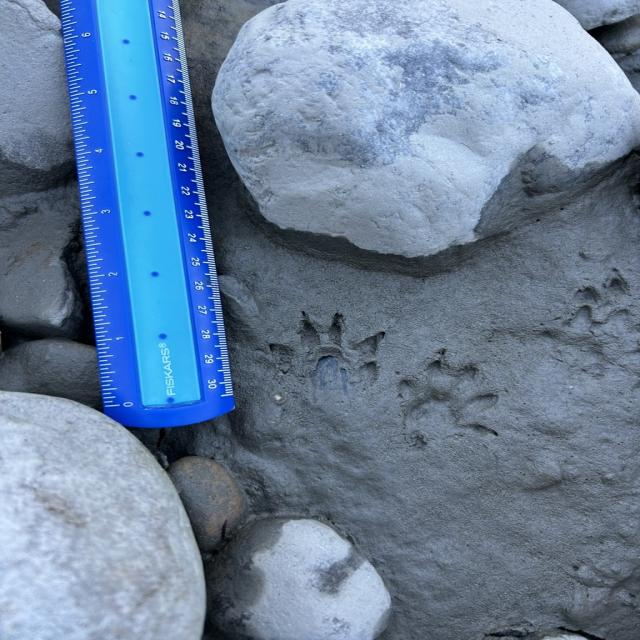mustelid: (390, 356, 503, 445), (268, 314, 376, 397)
